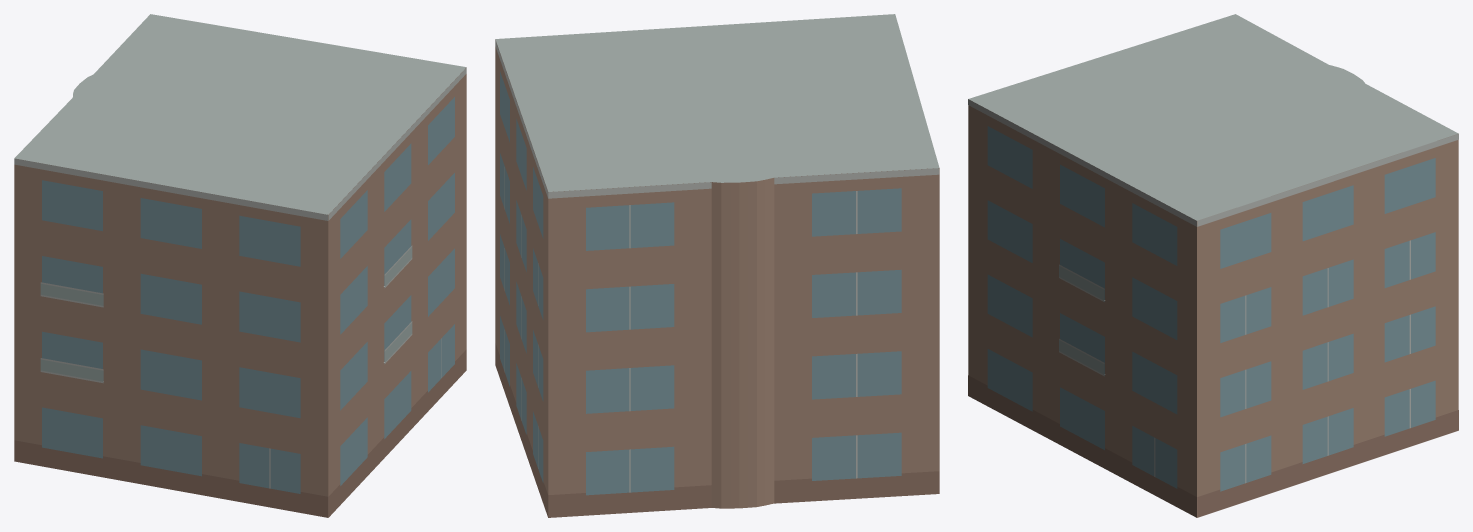
File: survey-upis-32814716.glb
3 renders of one model, left to right at view 1: azimuth 30°, elevation 25°; view 2: azimuth 150°, elevation 25°; view 3: azimuth 270°, elevation 25°, orthographic. The views are drawn at different scales.
Parts seen in each view (by area): view 1: survey-upis-32814716.tmp; view 2: survey-upis-32814716.tmp; view 3: survey-upis-32814716.tmp.
Part boxes in pixels (x1=…): survey-upis-32814716.tmp: x1=14, y1=14, x2=466, y2=517; survey-upis-32814716.tmp: x1=495, y1=14, x2=939, y2=517; survey-upis-32814716.tmp: x1=968, y1=14, x2=1458, y2=517.
Bounding box in the file's own units: 17.9 × 11.97 × 17.93.
